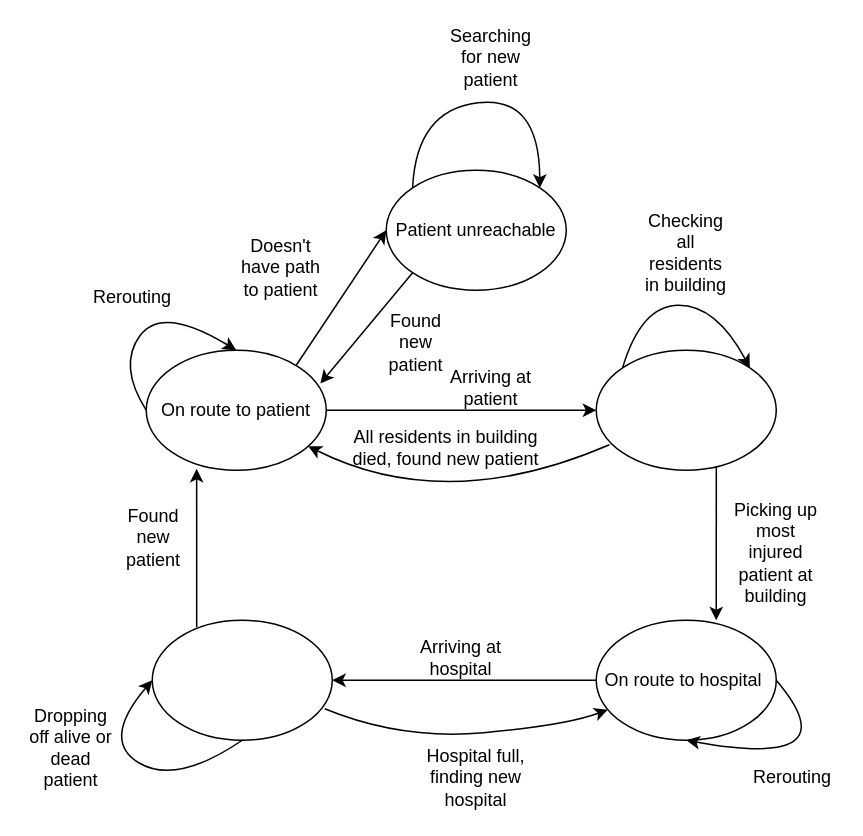
Image size: 863x836. Some labels were removed from this diagram. Each missing label, with the box of its shape:
At hospital: (151, 619, 332, 740)
At residential building: (595, 349, 776, 470)
